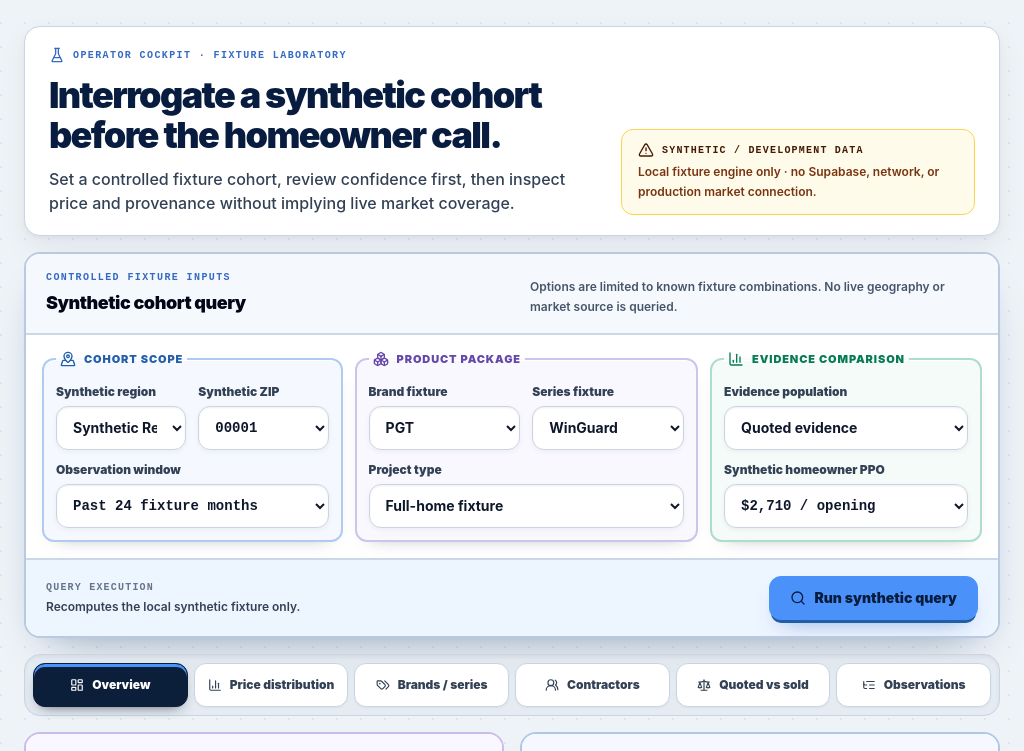
it: OracleDashboardSurface › withholds thin results without removing the recovery controls
The width and height of the screenshot is (1024, 751).
Select "Synthetic Region B" in the dropdown labelled "Synthetic region" at [121, 428], box [56,406,186,450]
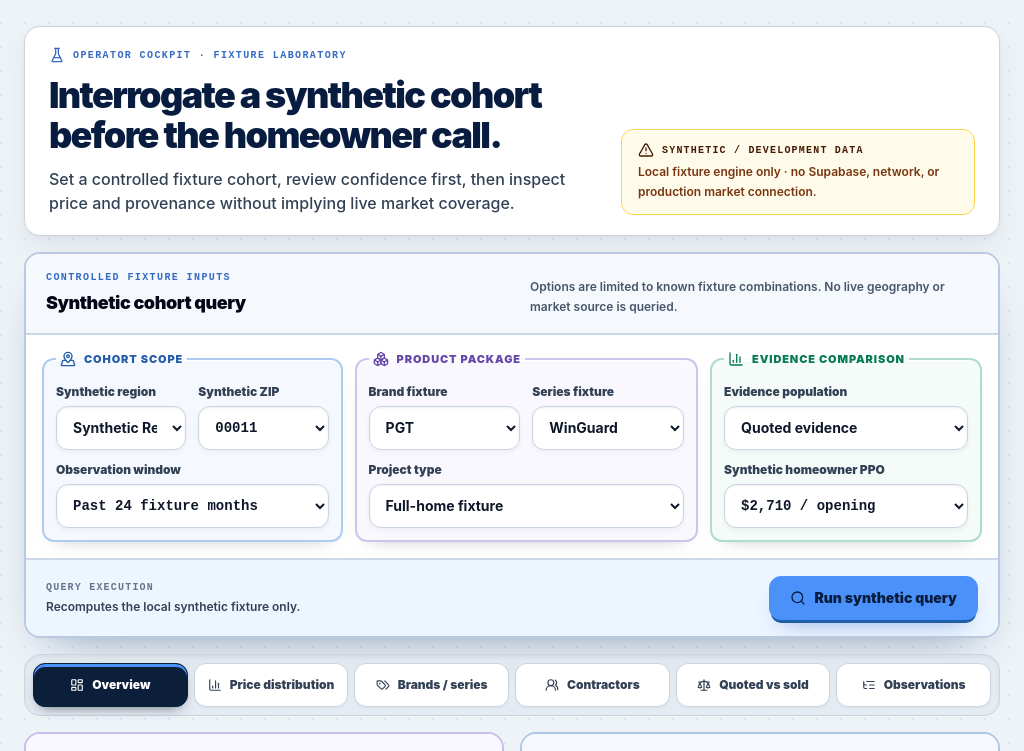
Select "ES" in the dropdown labelled "Brand fixture" at [444, 428], box [369,406,520,450]
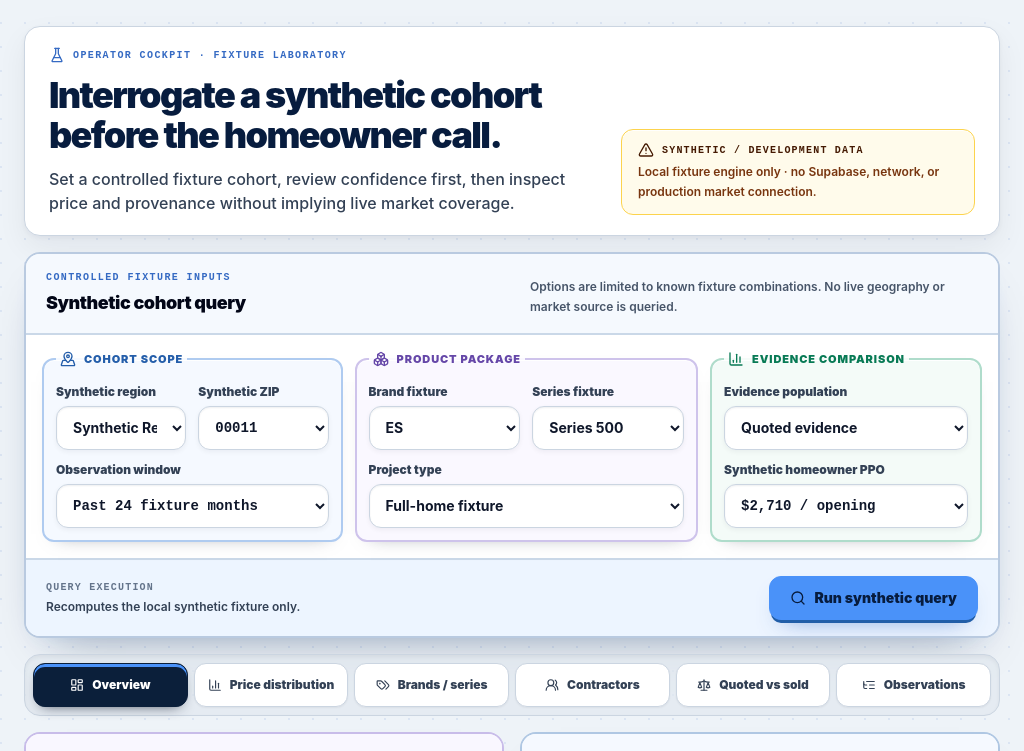
Click the button with test id "oracle-query-action" at [874, 598], box [769,576,978,620]
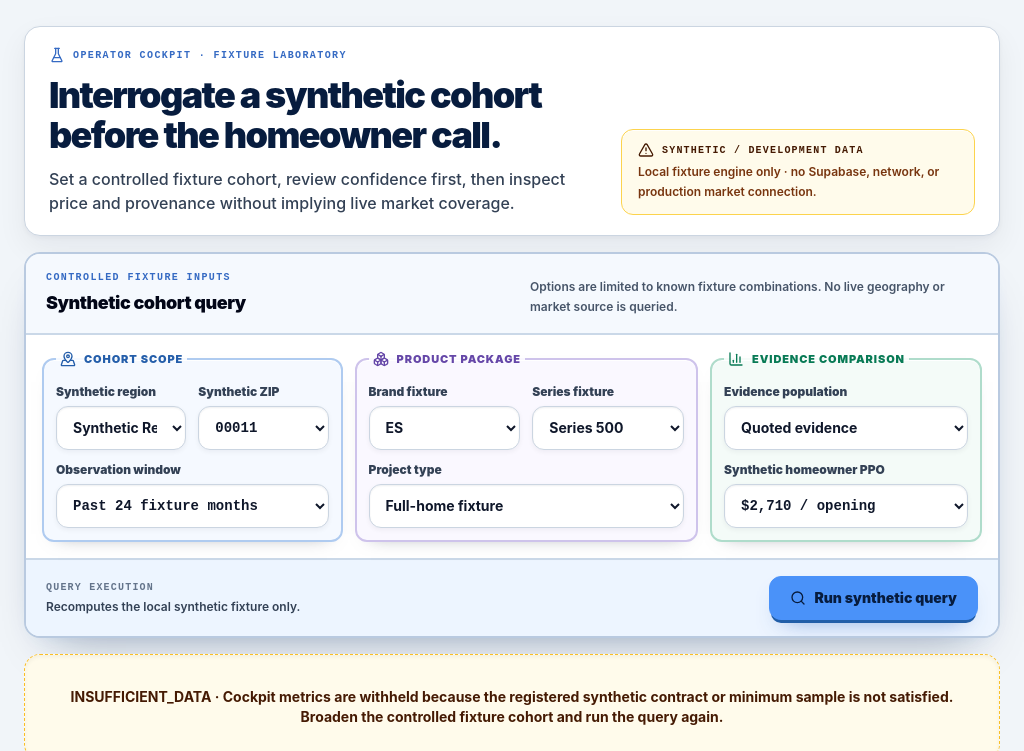
Expected: the element with test id "oracle-search-filters" is shown, [24,252,1000,638]
Expected: the message shows "INSUFFICIENT_DATA", [71,688,953,724]
Select "Synthetic Region A" in the dropdown labelled "Synthetic region" at [121, 428], box [56,406,186,450]
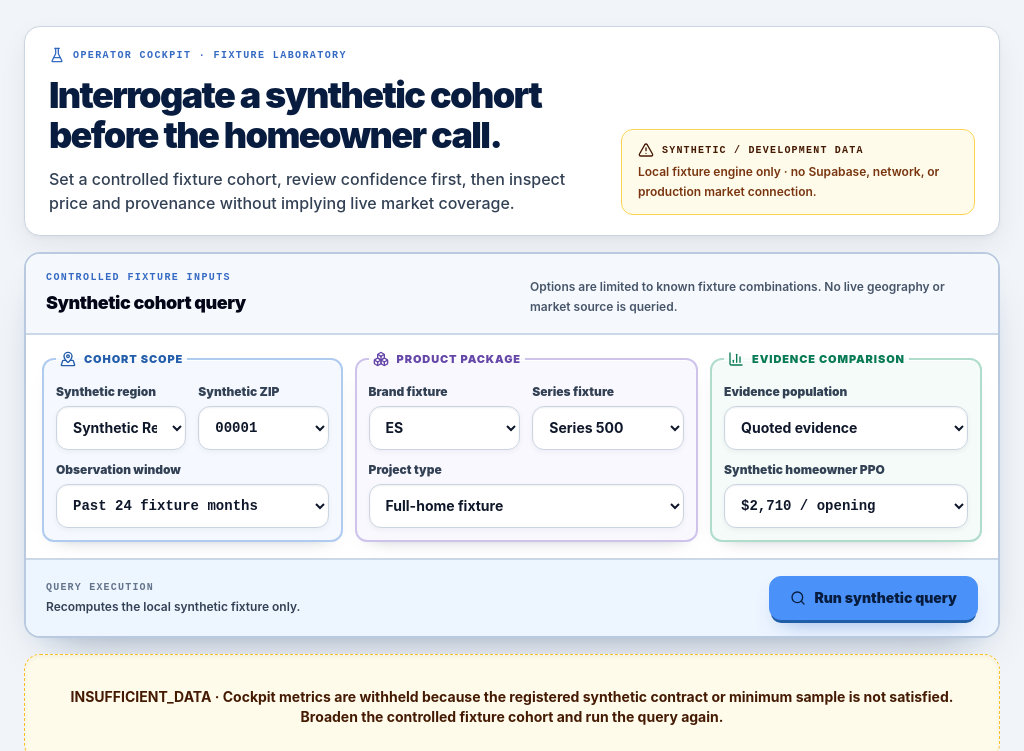
Select "PGT" in the dropdown labelled "Brand fixture" at [444, 428], box [369,406,520,450]
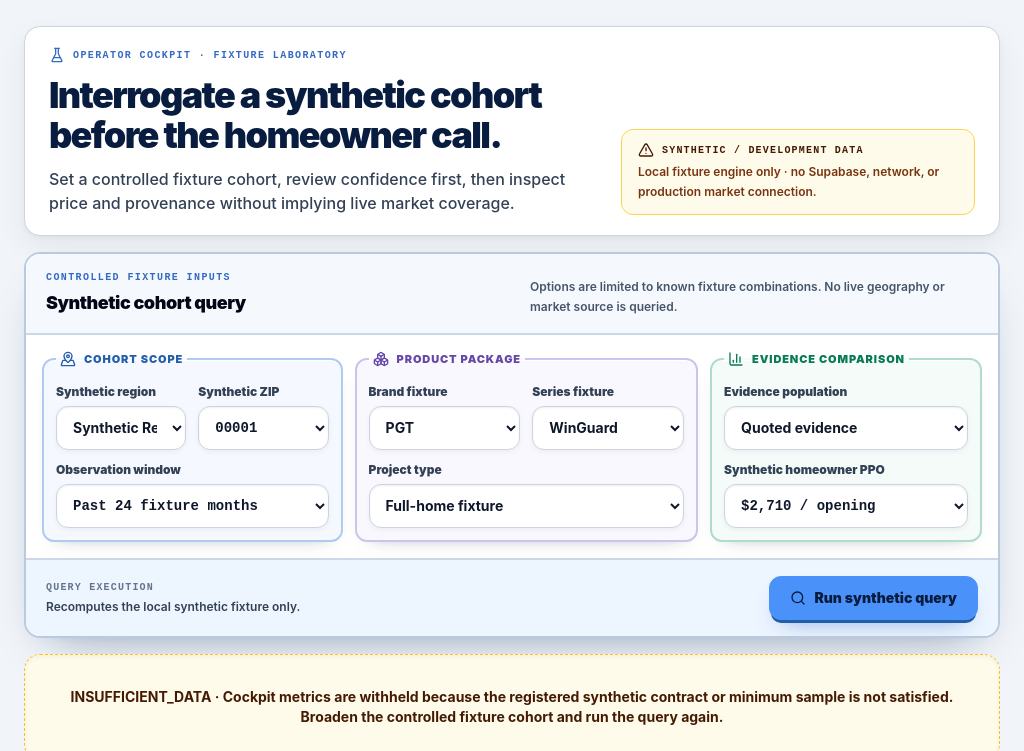
Click the button with test id "oracle-query-action" at [874, 598], box [769,576,978,620]
(page scrolled)
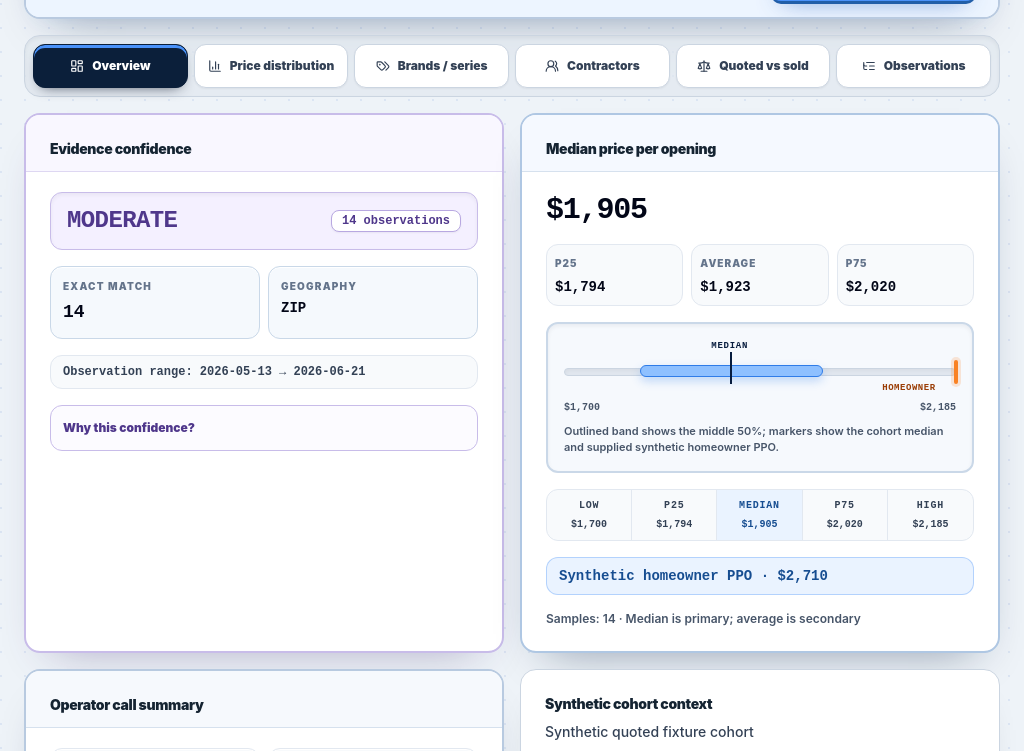
Expected: the element with test id "oracle-confidence-card" is shown, [24,112,504,652]
